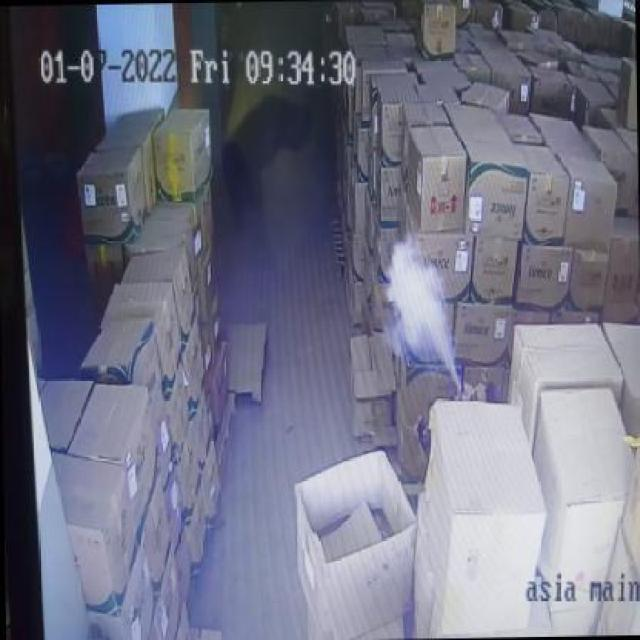fire: (380, 228, 458, 381)
